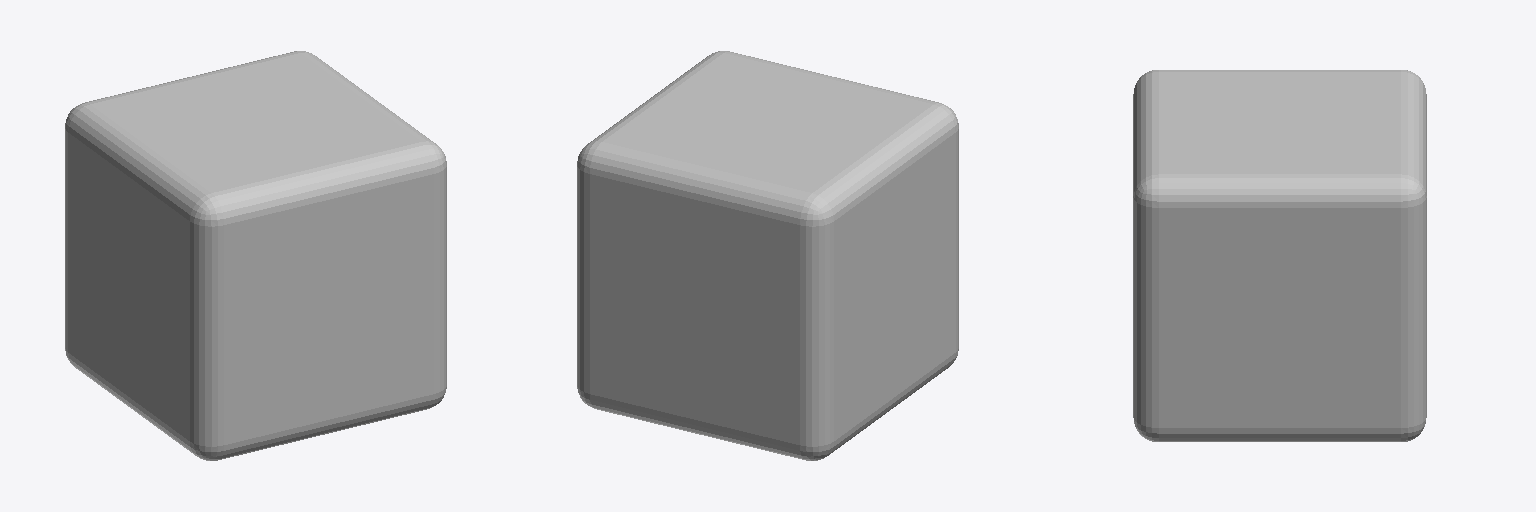
Rendered from E-block.obj.
3 views of the same model, side by side, from view 1: azimuth 30°, elevation 25°; view 2: azimuth 150°, elevation 25°; view 3: azimuth 270°, elevation 25° (orthographic).
Parts seen in each view (by area): view 1: Cube; view 2: Cube; view 3: Cube.
Part boxes in pixels (x1,y1,x2,y2): Cube: (65,51,446,460); Cube: (577,51,958,460); Cube: (1133,70,1426,441).
Size of the model in its own units: 0.64 by 0.64 by 0.64.